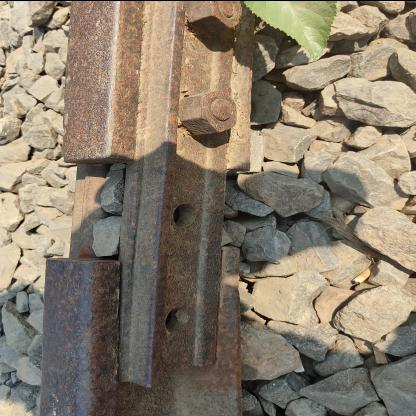Defective 2: (25, 120, 162, 312)
Defective 3: (113, 1, 270, 391)
